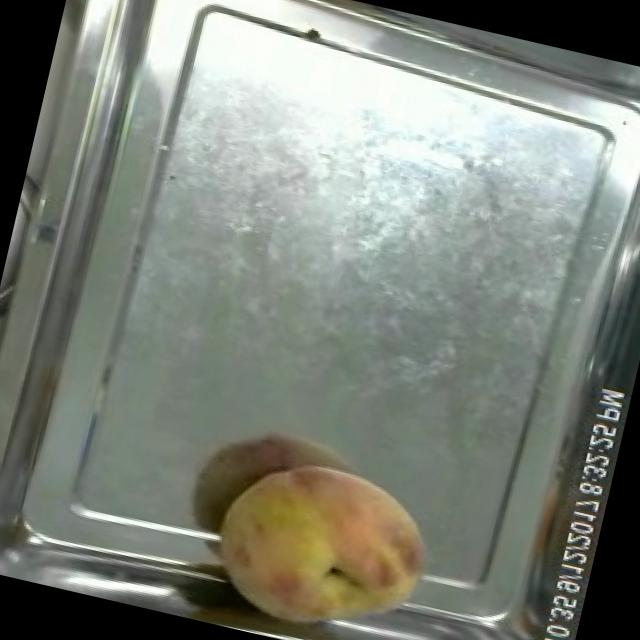Fruit: (191, 431, 453, 640)
